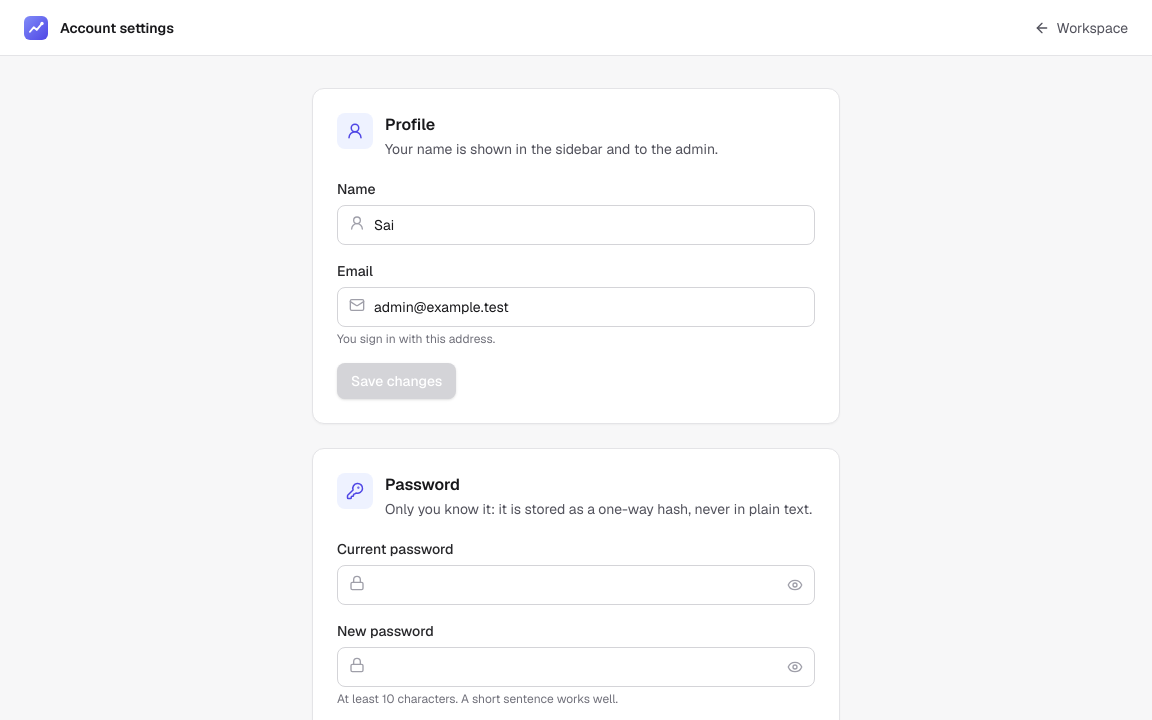
it: Account settings › explains a wrong current password
The width and height of the screenshot is (1152, 720).
Type "not it" into the password field labelled "Current password" at (576, 585), box [337,565,815,605]
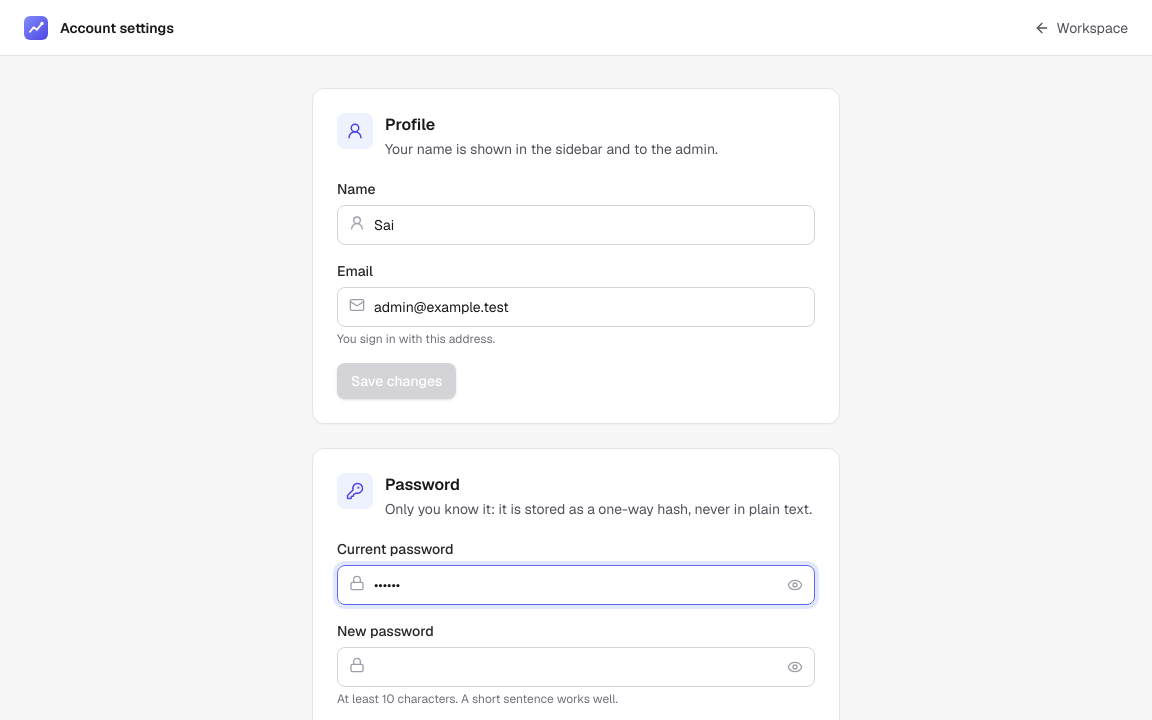
Type "a good passphrase 1" into the password field labelled "New password" at (576, 667), box [337,647,815,687]
(page scrolled)
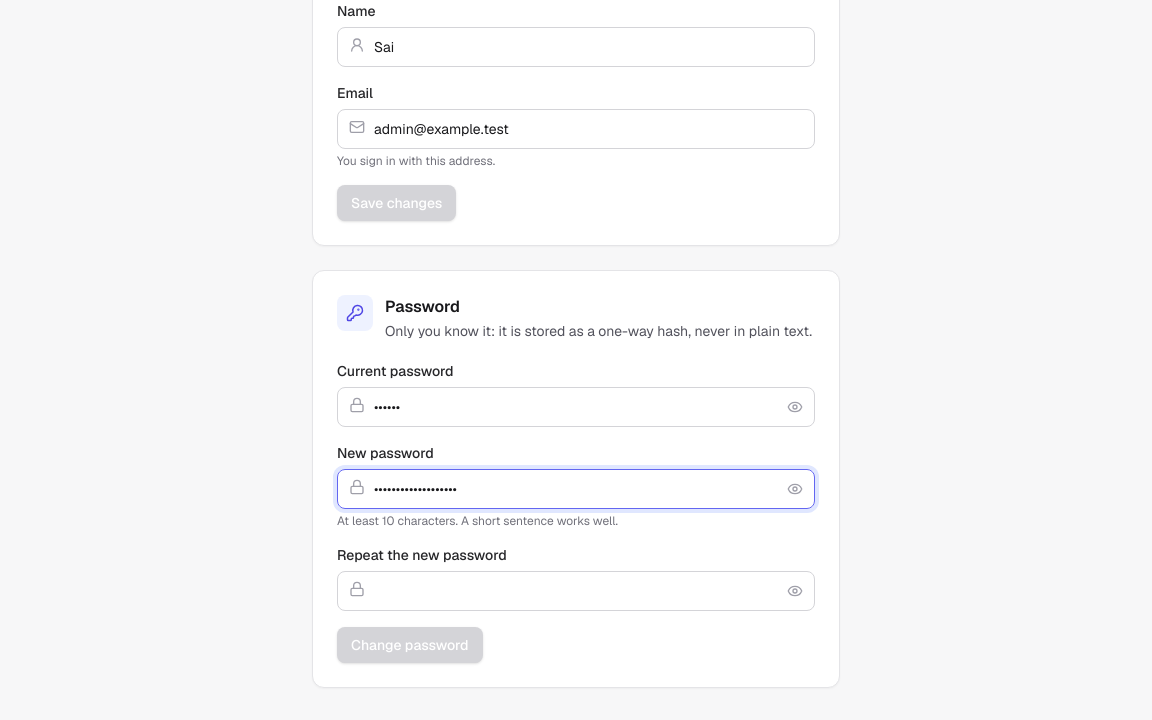
Type "a good passphrase 1" into the password field labelled "Repeat the new password" at (576, 591), box [337,571,815,611]
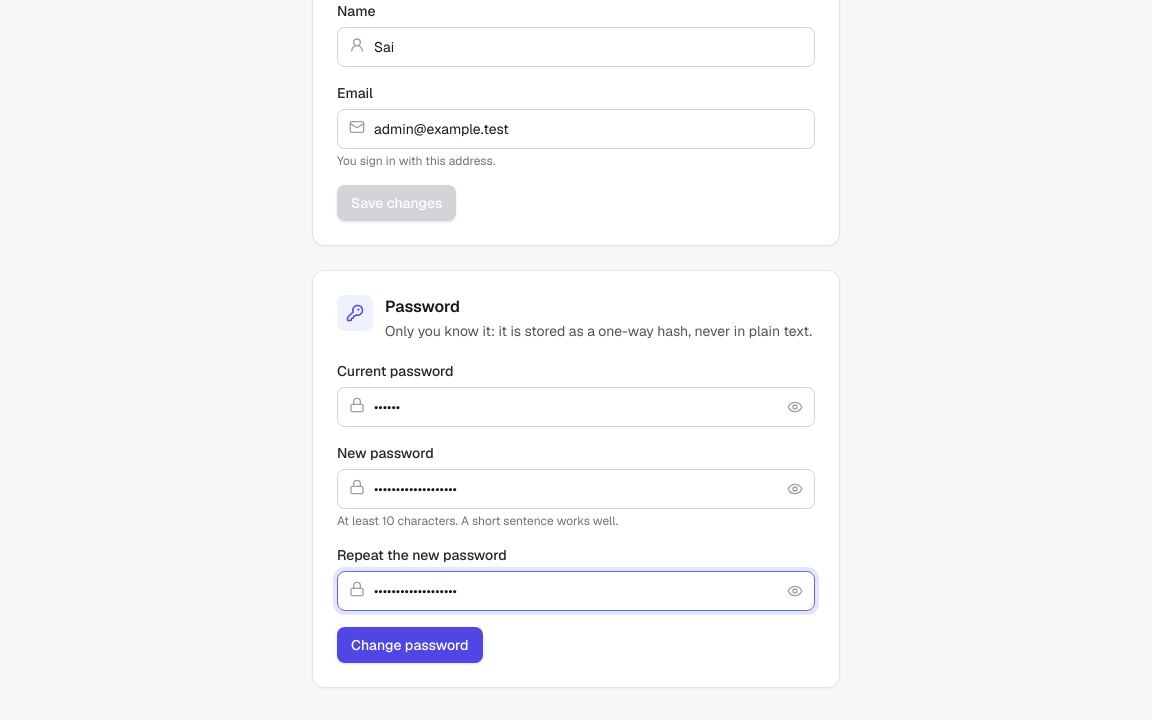
Click the button "Change password" at (410, 645), box [337,627,482,663]
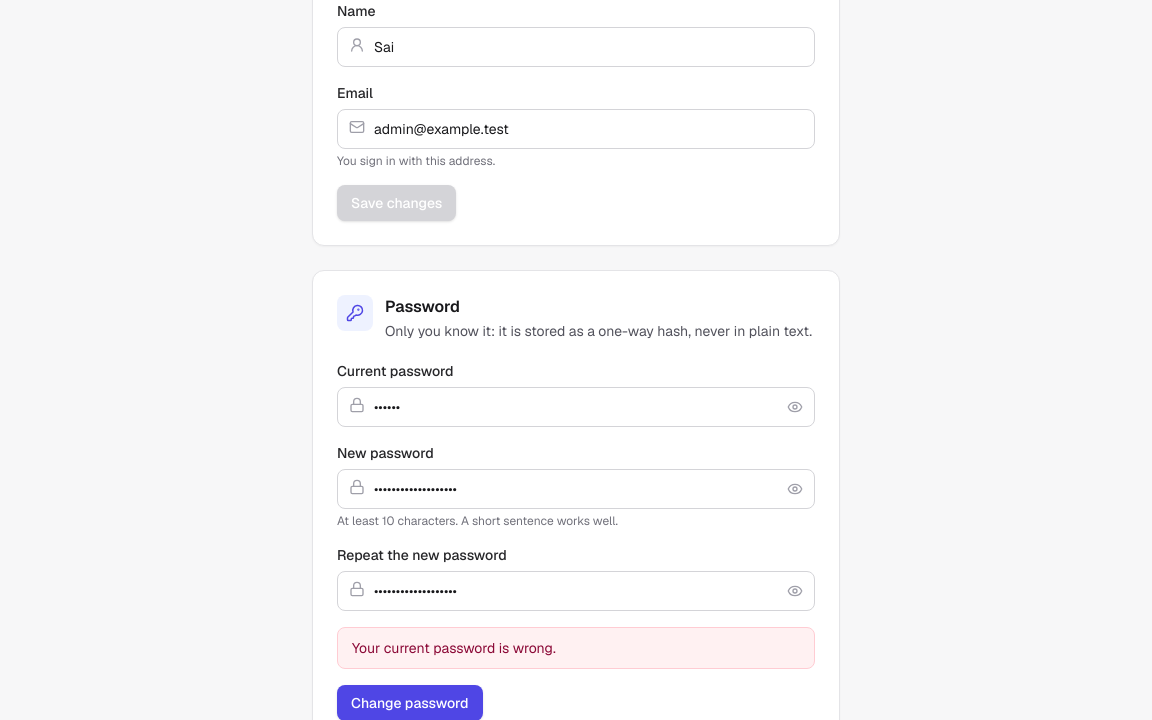
Now the message reads "Your current password is wrong.", box [352,639,556,657]
